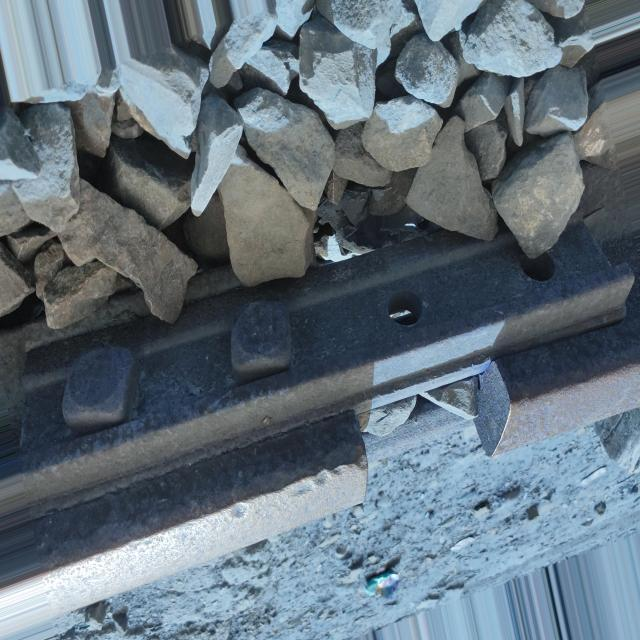Defective Joint: (20, 231, 632, 505)
